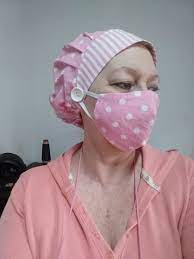with_mask_and_cap: (68, 29, 161, 148)
